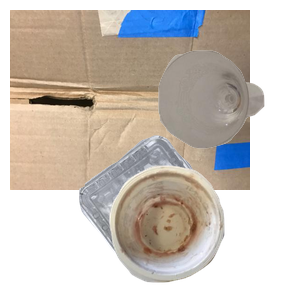cardboard: (10, 10, 250, 190)
glass: (156, 48, 300, 189)
plastic: (77, 133, 289, 300)
trash: (107, 163, 300, 300)
